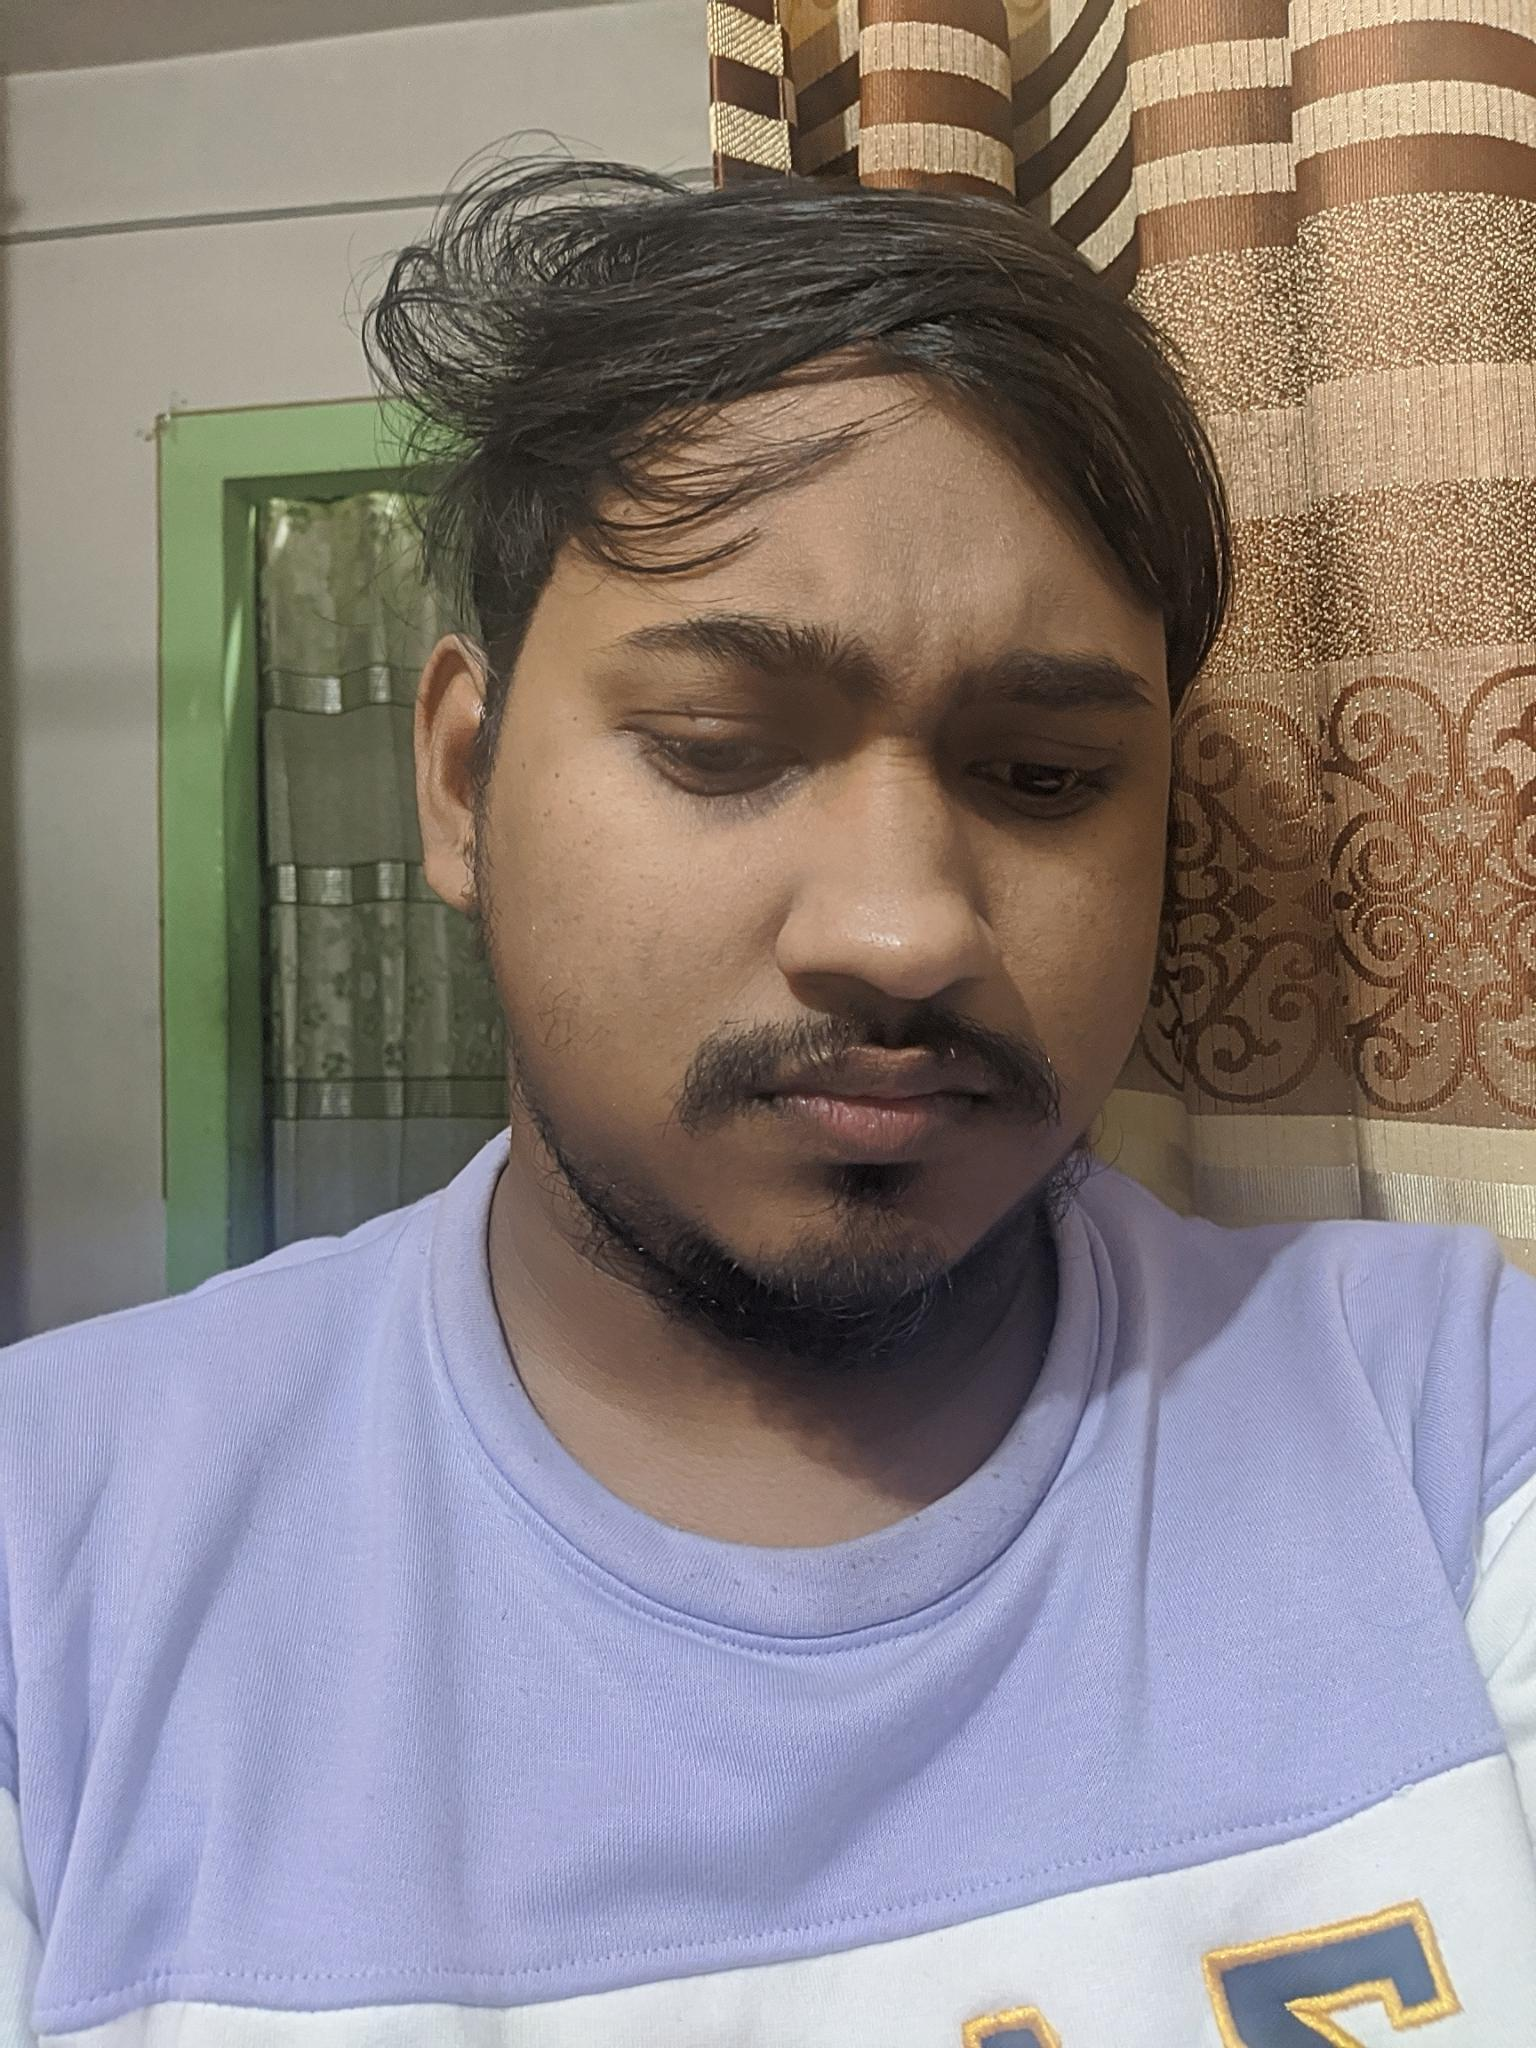Angry: (544, 498, 1191, 1334)
